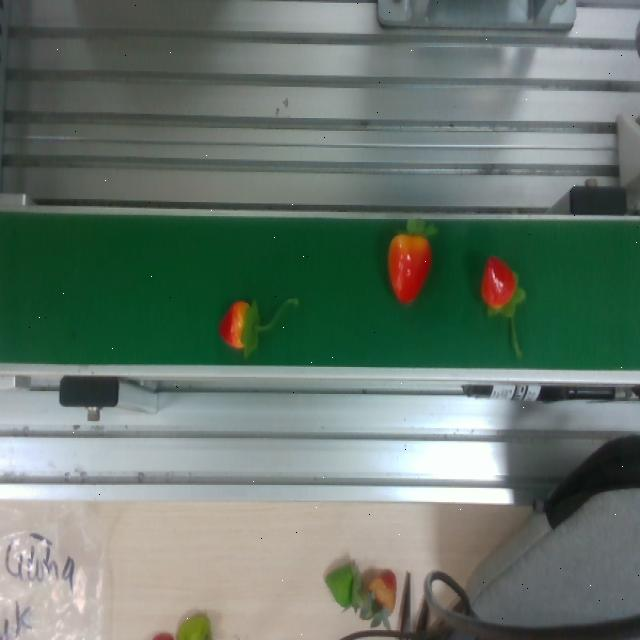Small Ripe Strawberry: (471, 241, 527, 329)
Small Unripe Strawberry: (207, 284, 277, 354), (385, 216, 435, 306)
conveyor: (0, 199, 640, 374)
